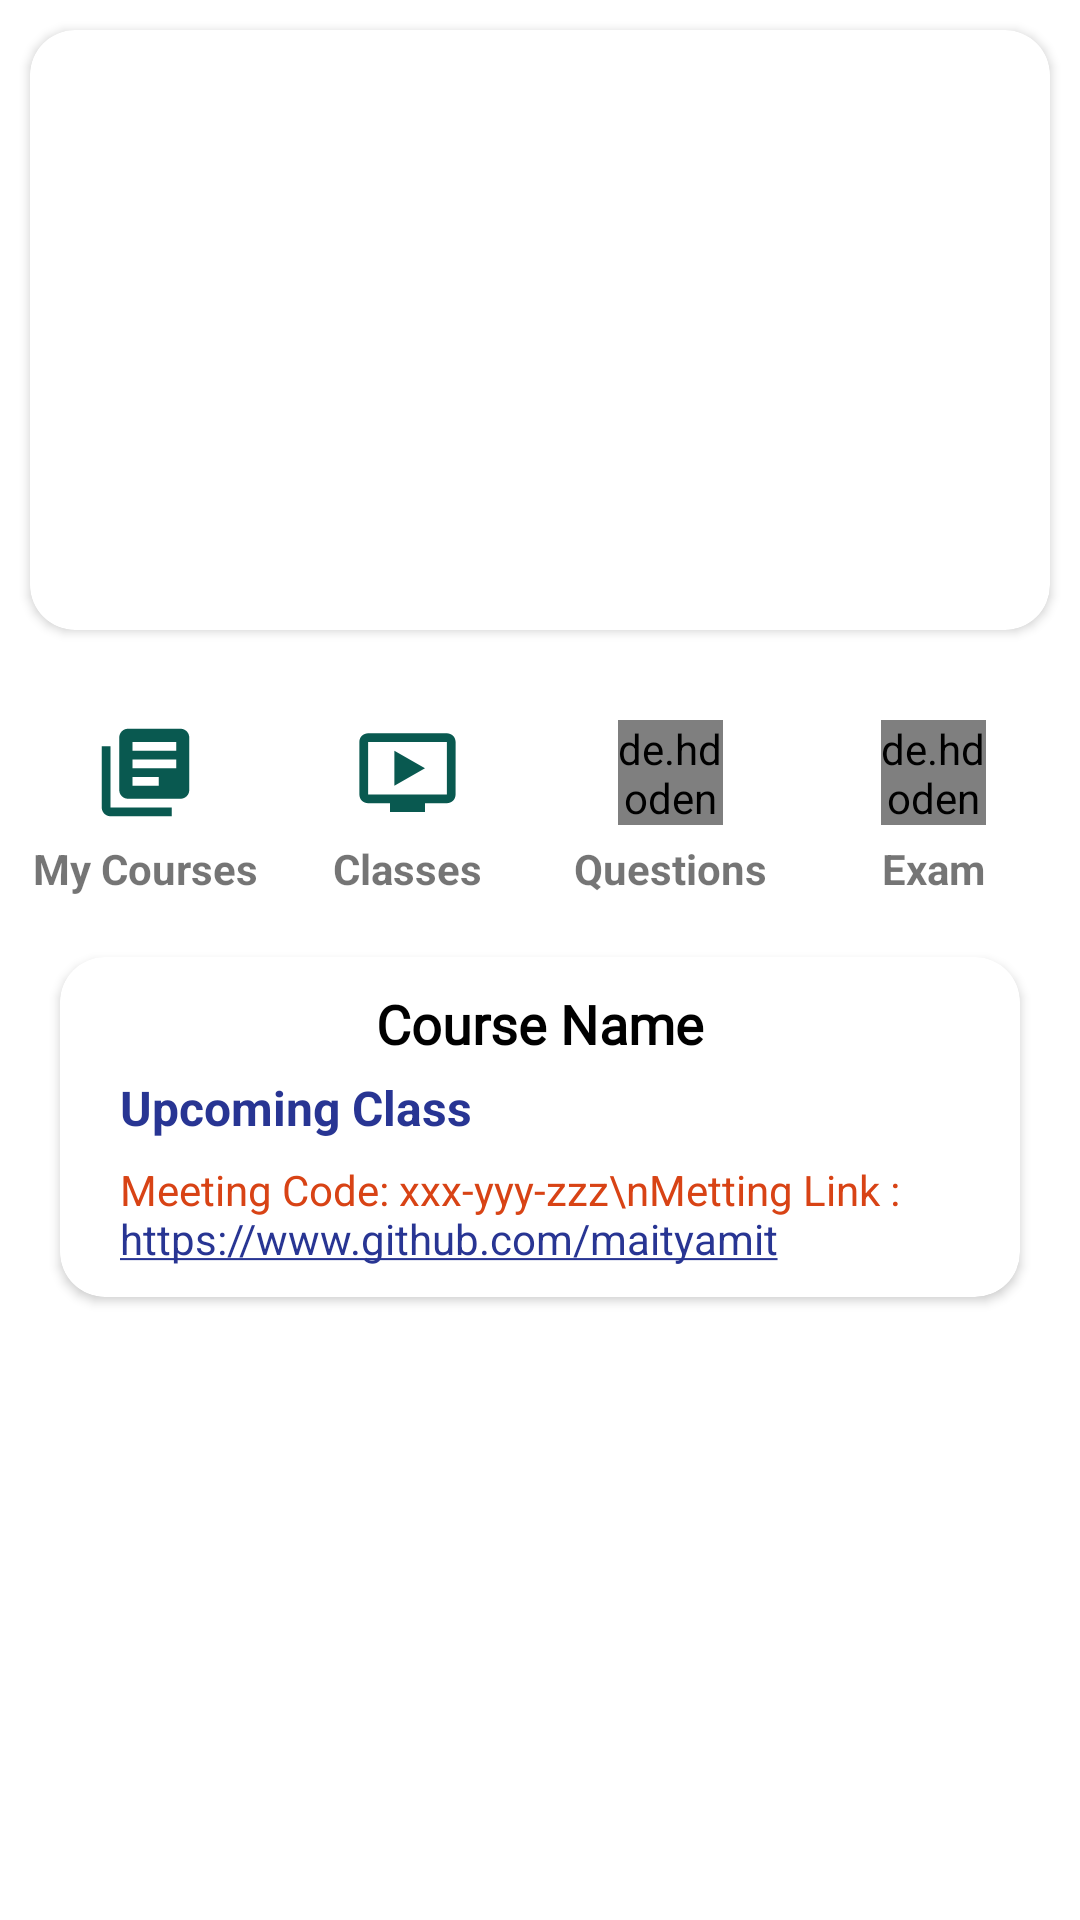

Point at icon controls on the screen. Image size 1080px x 1920px, points as (x=x, y=y).
library books: (x=145, y=772)
ondemand video: (x=407, y=772)
